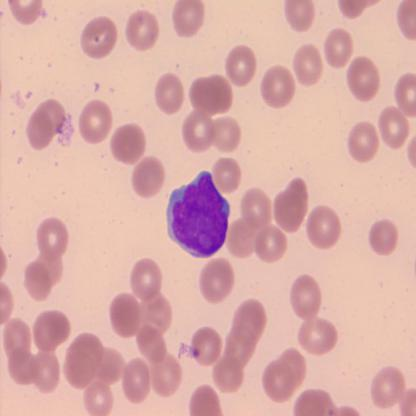Blast: (164, 169, 232, 262)
